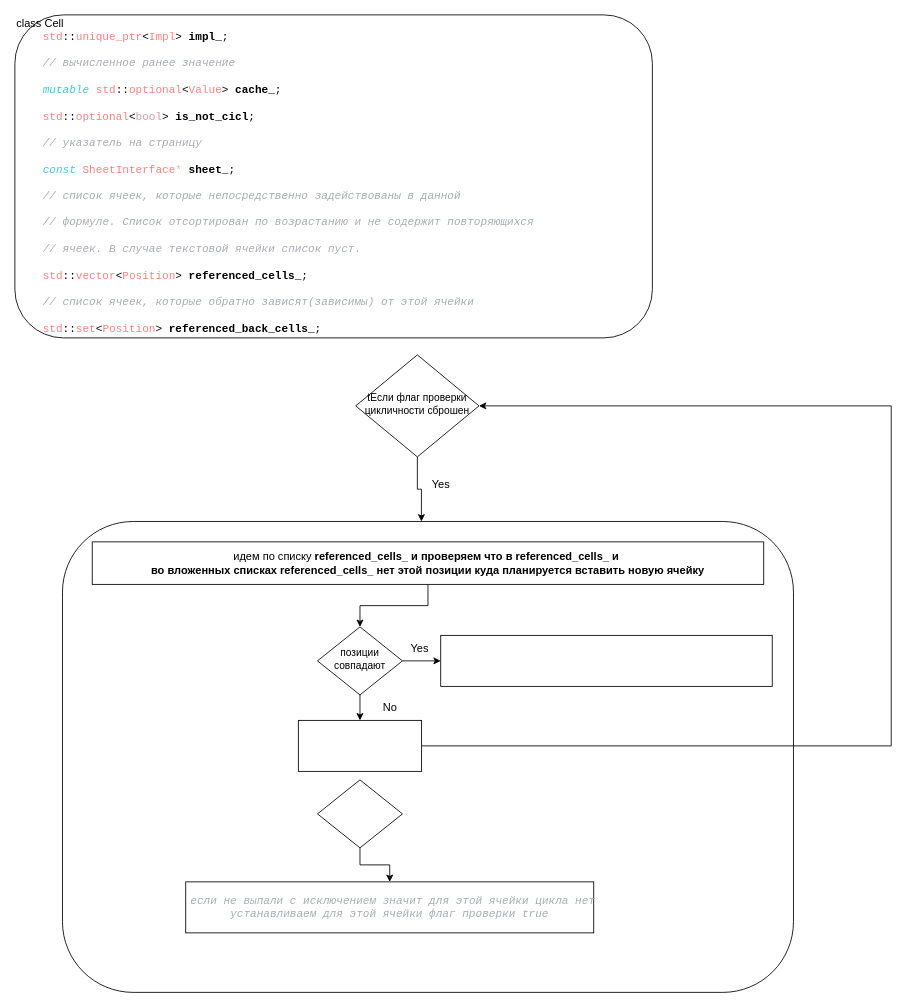
This 913x1007 diagram has some shape labels left out. Here are the shapes that lost their labels. From the top down, the box of each, then its label:
(440, 635, 772, 686): throw CircularDependencyException ( "FALSE IsCicl" );
(298, 720, 422, 771): рекурсивно вызываем функцию сосписком от новой ячейки
(317, 779, 402, 848): цикл закончился
